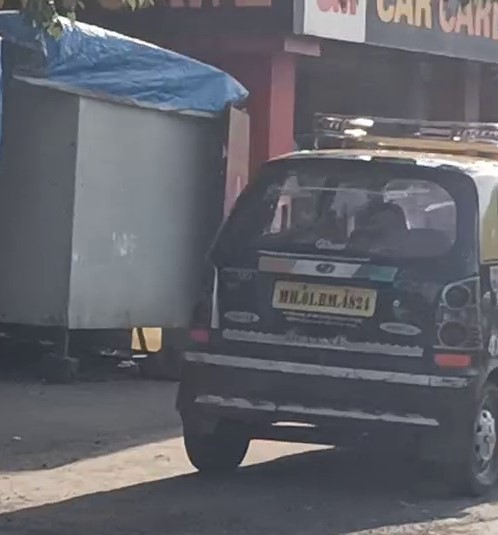MH01BM4824: (271, 280, 377, 315)
